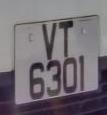0: (61, 54, 79, 98)
1: (76, 52, 87, 95)
3: (45, 57, 63, 101)
6: (27, 61, 48, 102)
T: (58, 17, 78, 61)
V: (40, 18, 59, 63)
